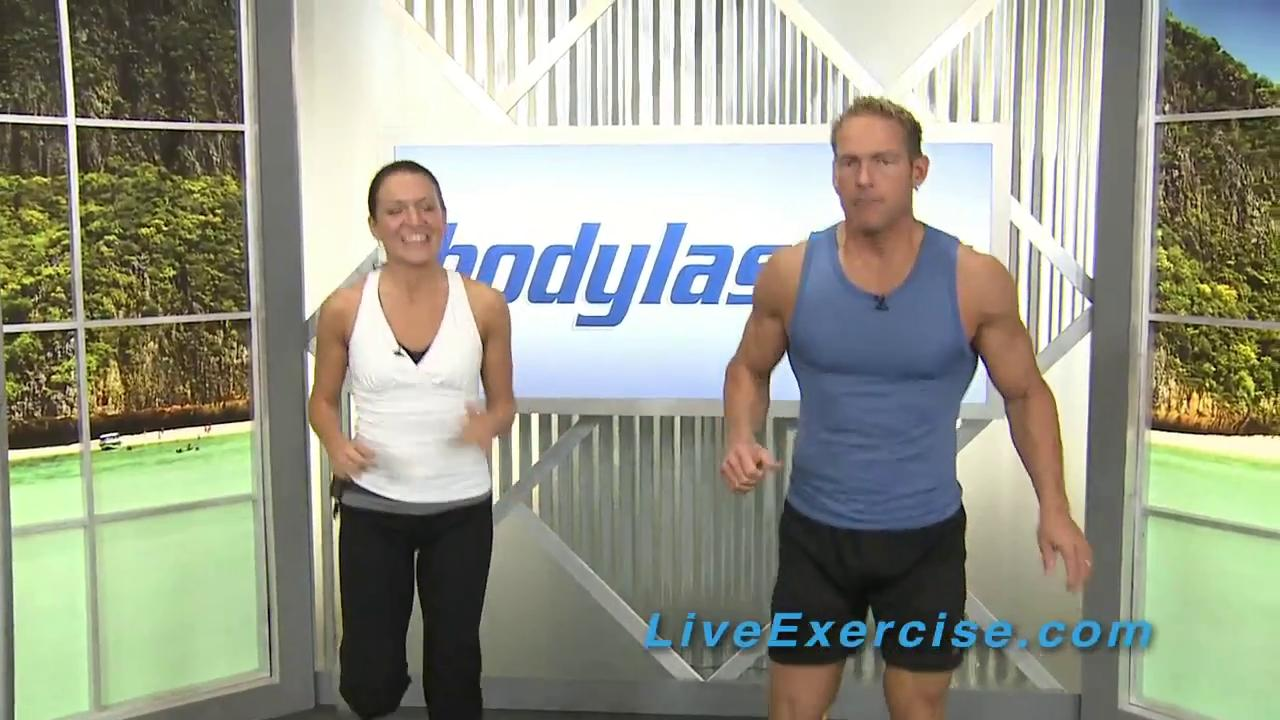victim: (718, 93, 1095, 714), (306, 157, 518, 714)
